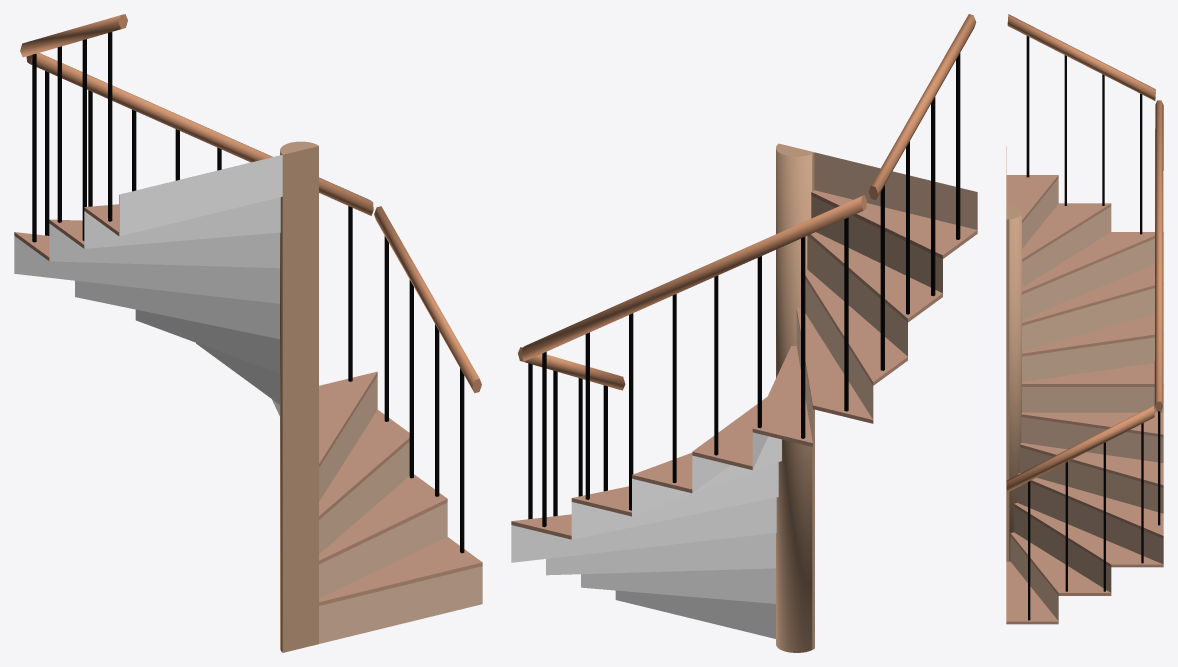
Rendered from sweethome3d-contributions-square-spiral-staircase.glb.
The picture shows the model from 3 angles, left to right: view 1: azimuth 30°, elevation 25°; view 2: azimuth 150°, elevation 25°; view 3: azimuth 270°, elevation 25°; orthographic projection. The views are drawn at different scales.
Visible parts, largest first — view 1: 97_97, 72_72, Cylinder, Cube.001_Cube.002, 1_1.003_1_1.006; view 2: 97_97, 72_72, Cylinder, Cube.001_Cube.002, 1_1.003_1_1.006; view 3: 97_97, 72_72, 1_1.003_1_1.006, Cylinder, Cube.001_Cube.002.
Boxes of the visible parts, box(x1,y1,x2,y2) form: 97_97: box(14, 155, 482, 643); 72_72: box(14, 204, 482, 605); Cylinder: box(280, 141, 318, 652); Cube.001_Cube.002: box(32, 32, 464, 553); 1_1.003_1_1.006: box(20, 14, 481, 393); 97_97: box(511, 152, 977, 638); 72_72: box(511, 190, 977, 603); Cylinder: box(776, 143, 814, 652); Cube.001_Cube.002: box(528, 53, 960, 527); 1_1.003_1_1.006: box(518, 14, 976, 390); 97_97: box(1006, 146, 1163, 620); 72_72: box(1006, 175, 1163, 624); 1_1.003_1_1.006: box(1006, 14, 1163, 492); Cylinder: box(1006, 206, 1021, 561); Cube.001_Cube.002: box(1026, 36, 1160, 620).
Size of the model in its own units: 200 by 356 by 100.
